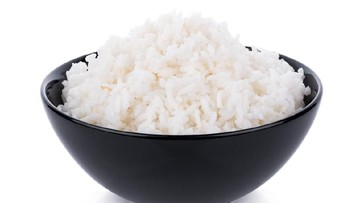Nasi Putih: (48, 4, 310, 176)
